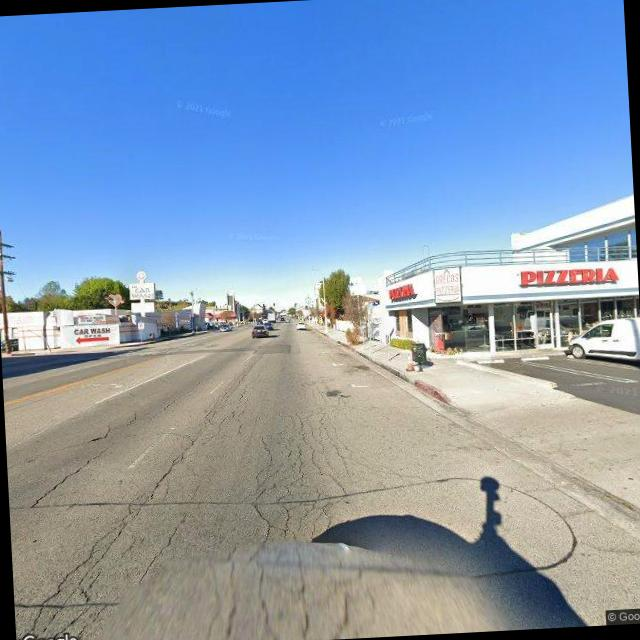crack: (2, 359, 370, 640), (24, 444, 113, 506)
